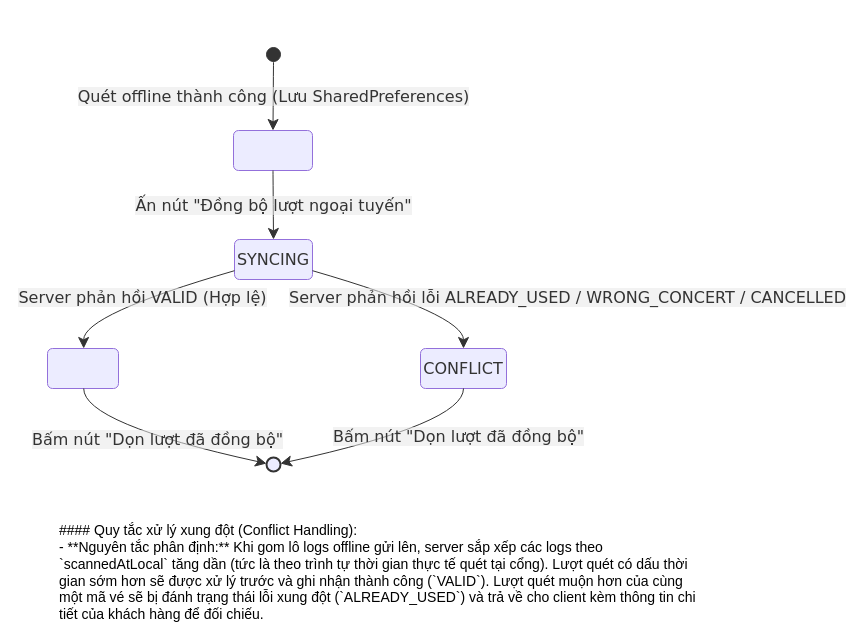
Some shapes in this 863 by 644 pixel diagram are drawn without their labels. Each missing label, with the centre of its shape:
PENDING: point (272, 150)
SYNCED: point (82, 368)
